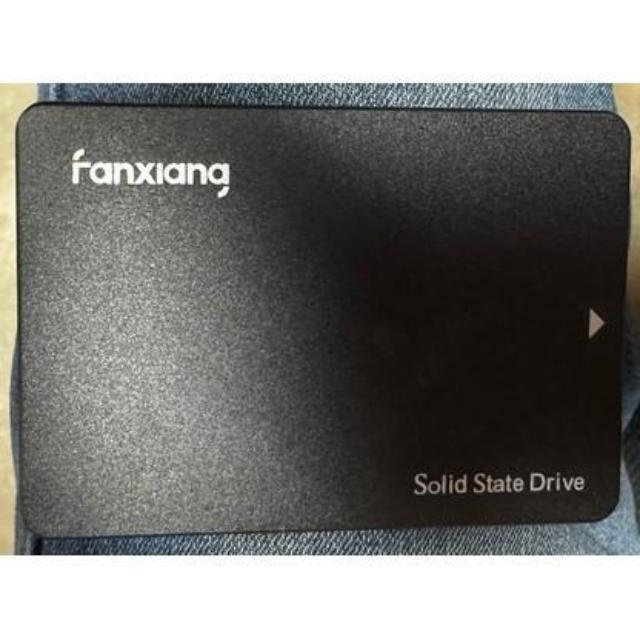DISK: (8, 97, 630, 545)
